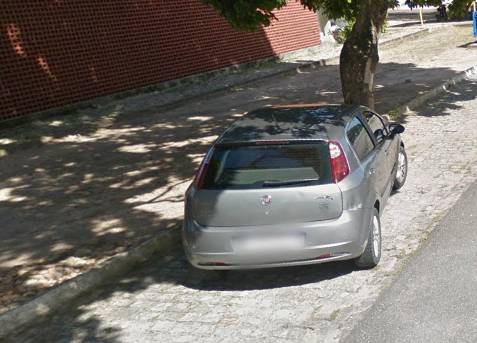car: (181, 93, 414, 292)
